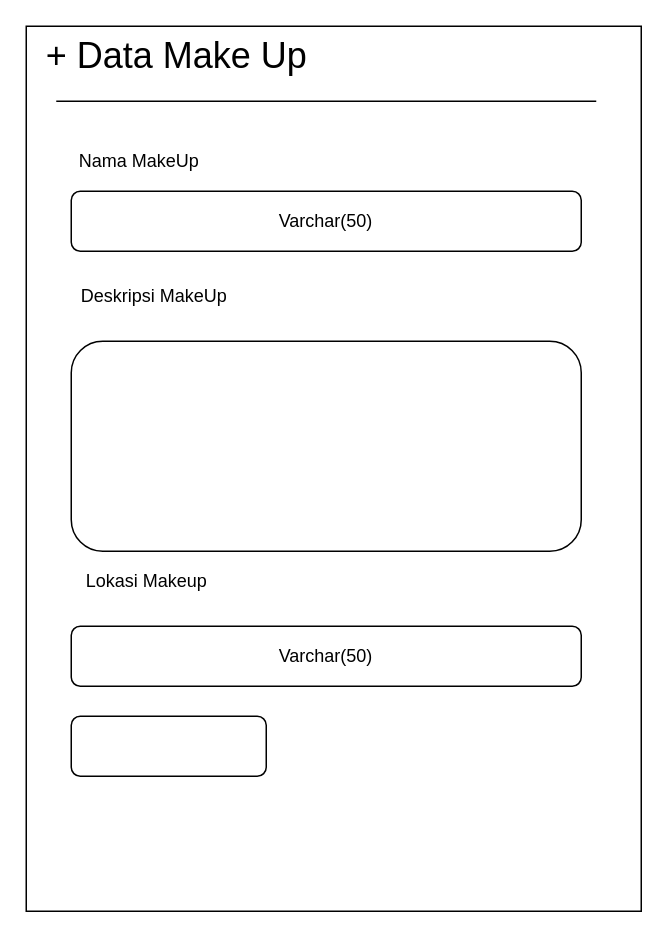
This 668x938 diagram has some shape labels left out. The shapes that lost their labels are listed below. From the top down, each one's box as (x1, y1, x2, y2) in pixels, then its label:
(70, 340, 581, 551): Text
(70, 715, 266, 776): Simpan Data
